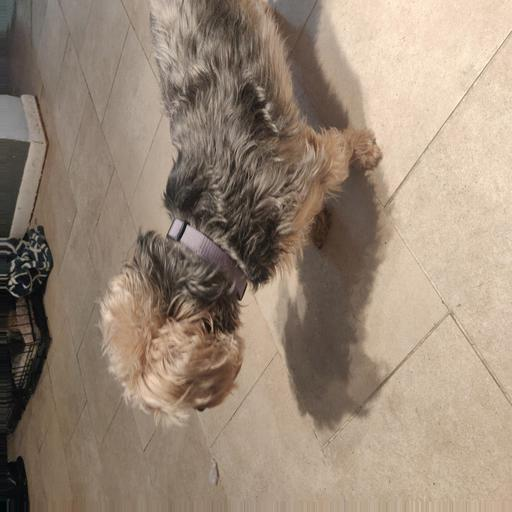dog: (77, 102, 387, 412)
